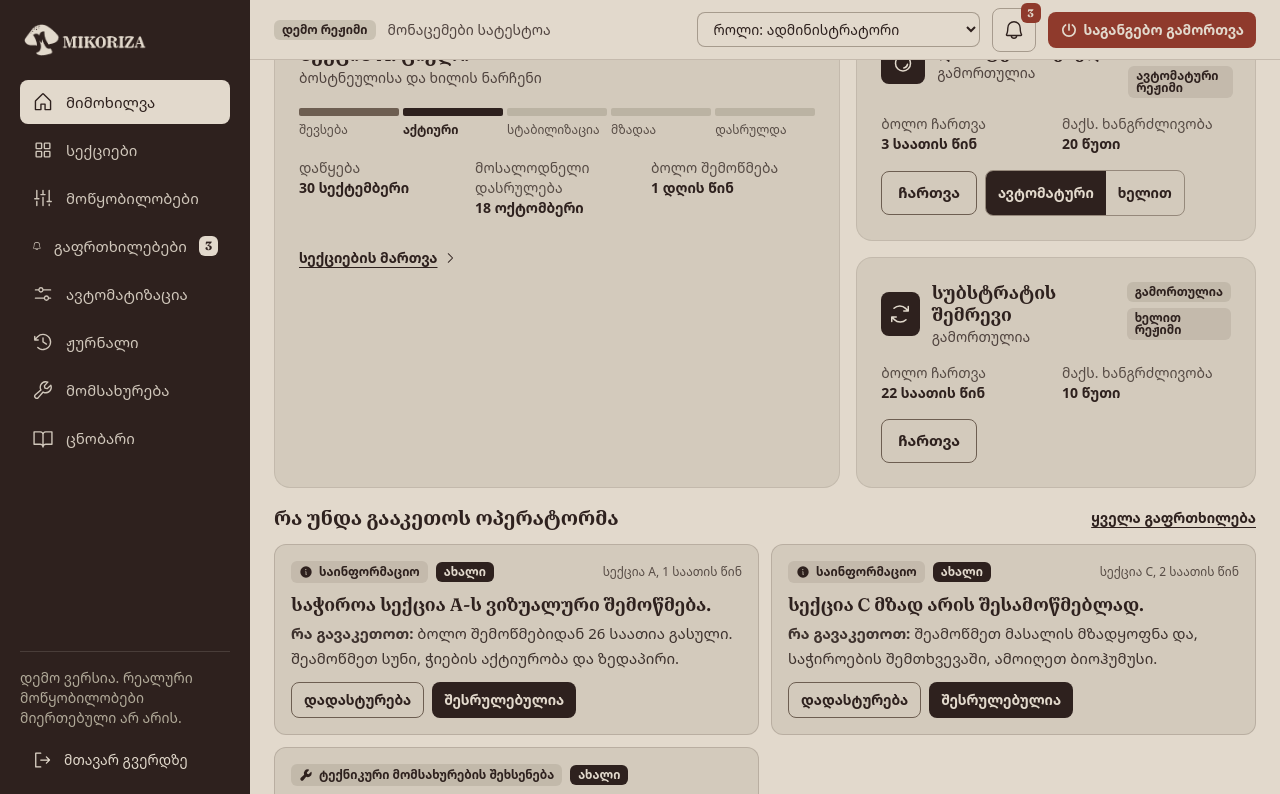
Test: admin dashboard › requires confirmation before starting the mixer
(page scrolled)
Click the button "ჩართვა" below "22 საათის წინ". click: (929, 440)
box: [881, 418, 977, 462]
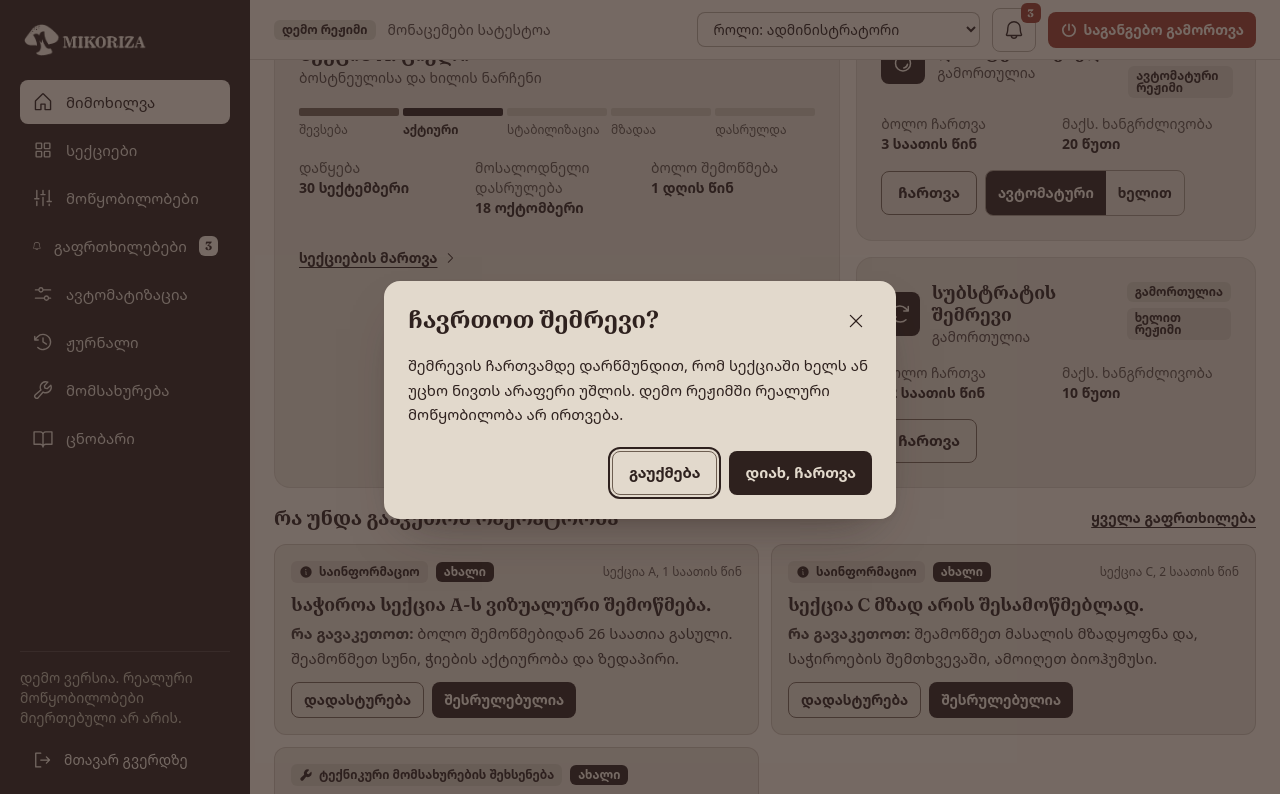
Click the button "დიახ, ჩართვა". click: (801, 473)
box: [730, 451, 872, 495]
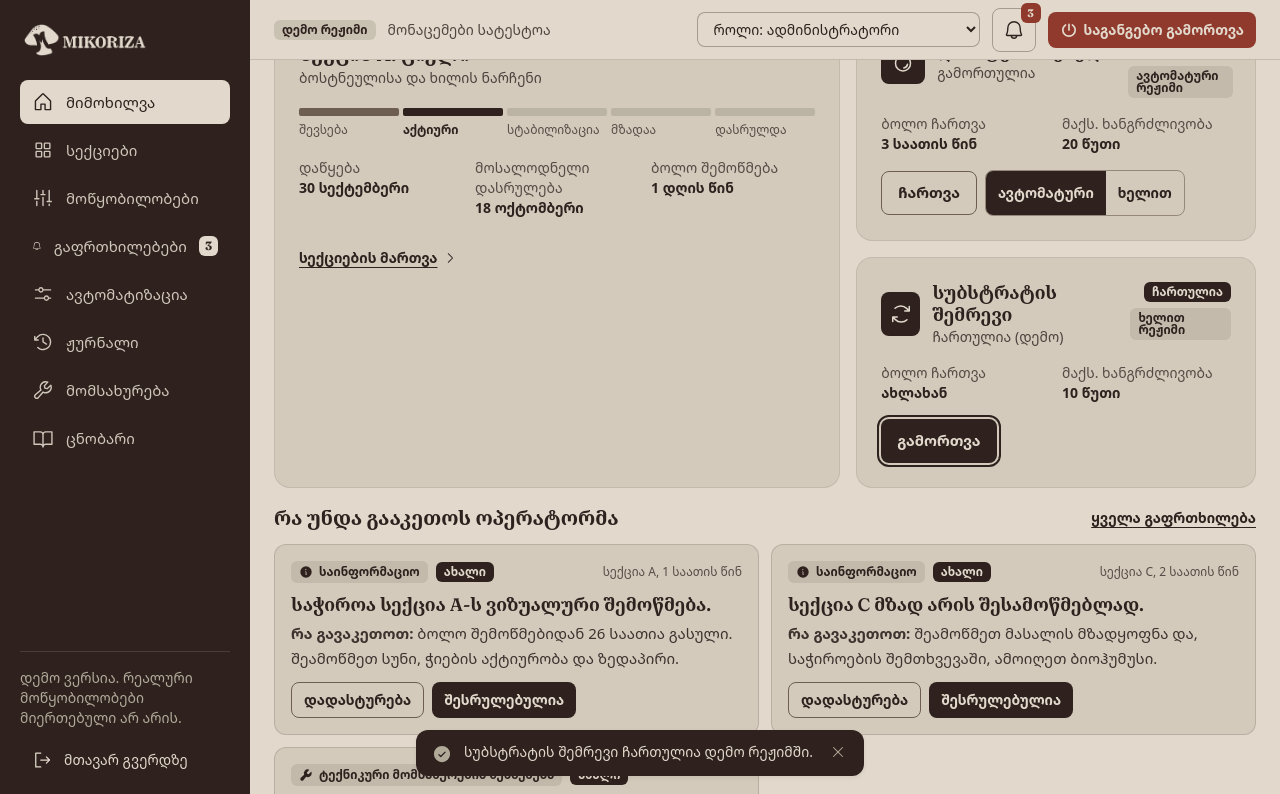
Check: the button "გამორთვა" is shown, box [881, 418, 997, 462]
